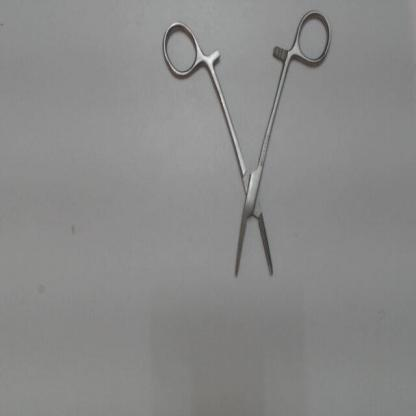Mayo Needle Holder: (158, 4, 337, 294)
